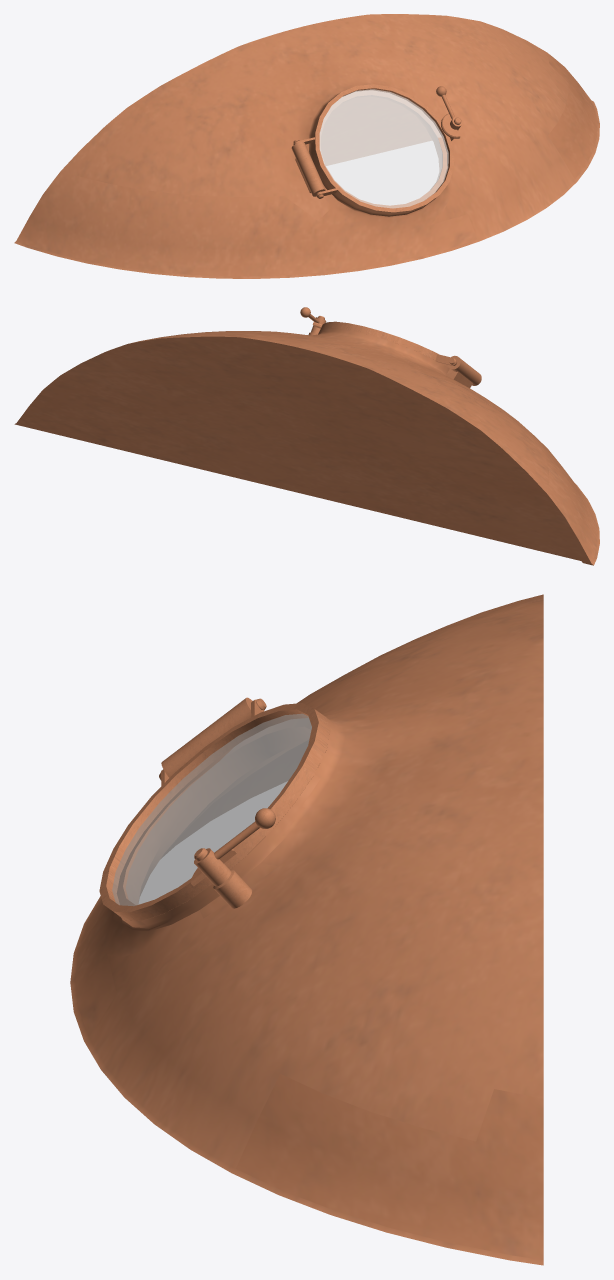
The model's file is Tank_Front.fbx.
3 views of the same model, one above another, from view 1: azimuth 30°, elevation 25°; view 2: azimuth 150°, elevation 25°; view 3: azimuth 270°, elevation 25° (orthographic). The views are drawn at different scales.
Parts seen in each view (by area): view 1: 01_BrewTank_Maischen_Front_Base, 01_BrewTank_Maischen_Front_Glas, 01_BrewTank_Maischen_Front_Handle; view 2: 01_BrewTank_Maischen_Front_Base, 01_BrewTank_Maischen_Front_Glas; view 3: 01_BrewTank_Maischen_Front_Base, 01_BrewTank_Maischen_Front_Glas, 01_BrewTank_Maischen_Front_Handle.
Boxes of the visible parts, <box> form: 01_BrewTank_Maischen_Front_Base: <box>14,14,599,278</box>; 01_BrewTank_Maischen_Front_Glas: <box>293,84,454,214</box>; 01_BrewTank_Maischen_Front_Handle: <box>436,86,462,140</box>; 01_BrewTank_Maischen_Front_Base: <box>14,328,599,565</box>; 01_BrewTank_Maischen_Front_Glas: <box>320,321,457,368</box>; 01_BrewTank_Maischen_Front_Base: <box>70,594,543,1265</box>; 01_BrewTank_Maischen_Front_Glas: <box>99,699,330,920</box>; 01_BrewTank_Maischen_Front_Handle: <box>191,808,275,908</box>.
Bounding box in the file's own units: 292 × 70.25 × 103.
